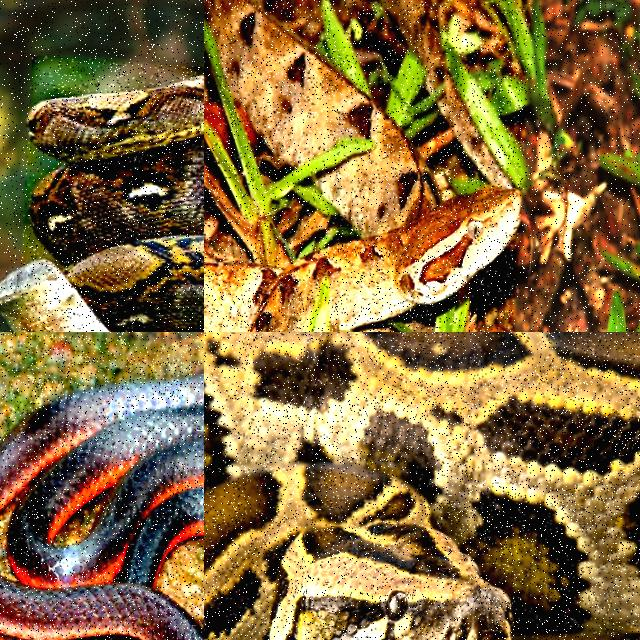Calliophis intestinalis: (0, 375, 203, 639)
Calloselasma rhodostoma: (204, 0, 520, 331)
Malayopython reticulatus: (28, 75, 203, 331)
Python bivittatus: (204, 332, 639, 639)
snake: (204, 332, 639, 639), (204, 0, 520, 331), (0, 375, 203, 639), (28, 75, 203, 331)
